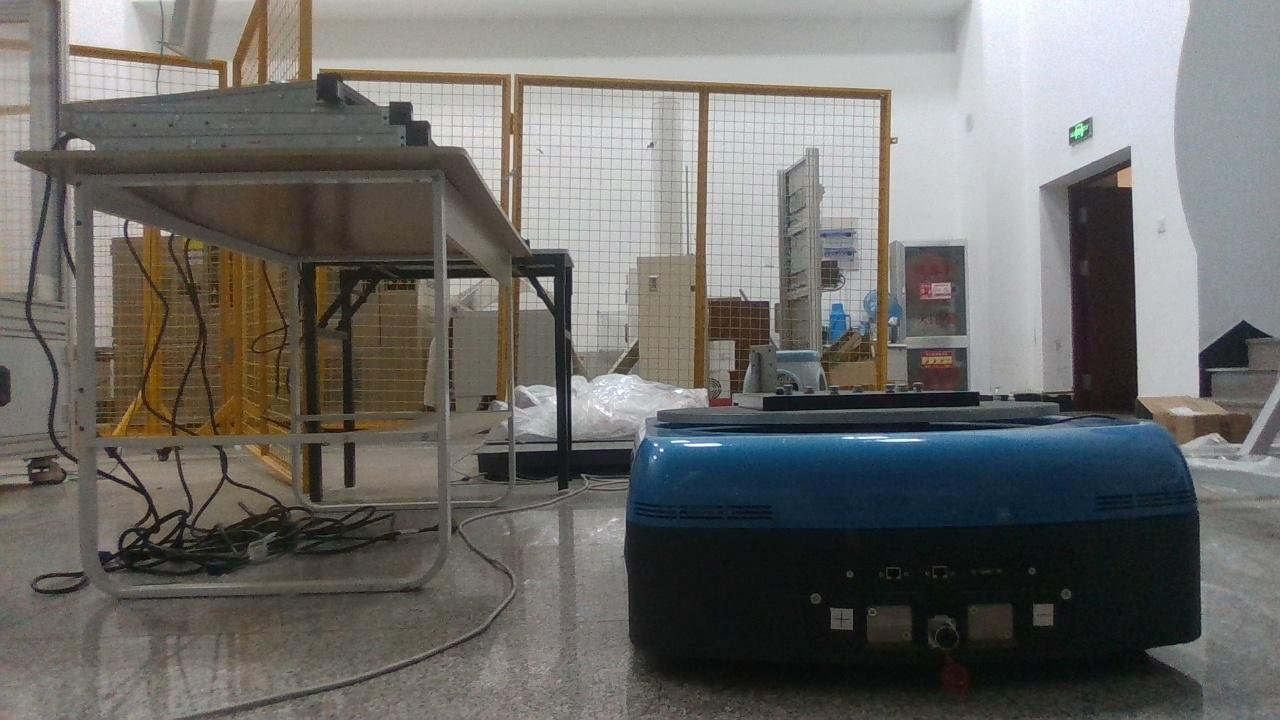AGV: (625, 391, 1202, 692)
